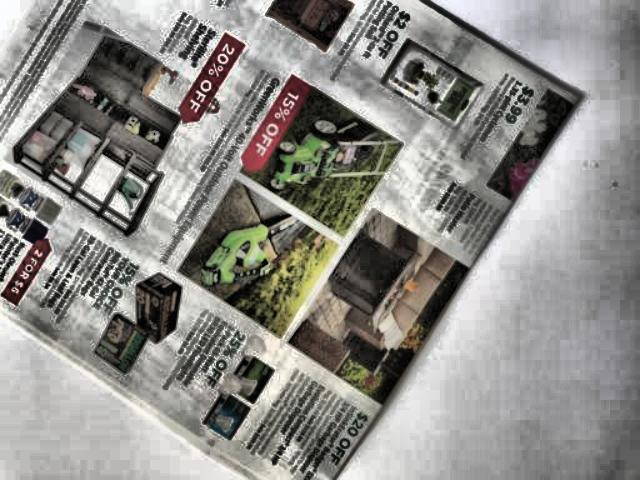Paper: (0, 0, 579, 480)
